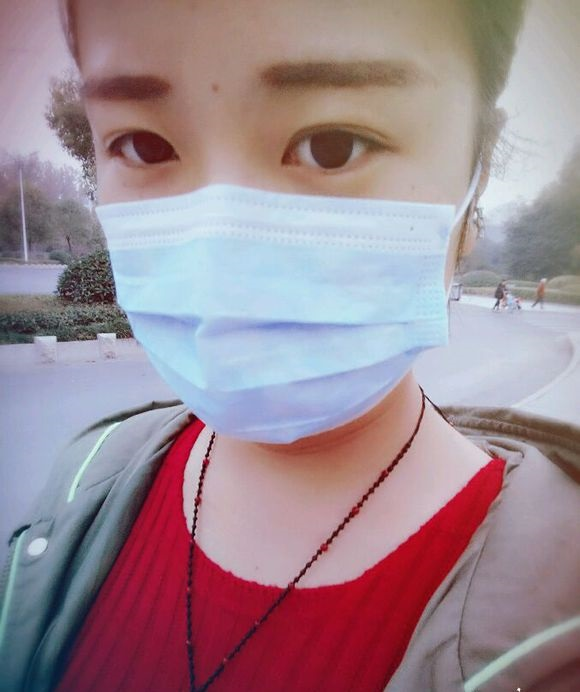face_mask: (81, 1, 460, 439)
